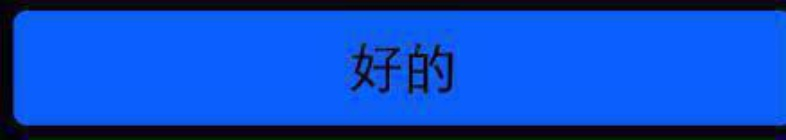Button: (1, 1, 785, 139)
